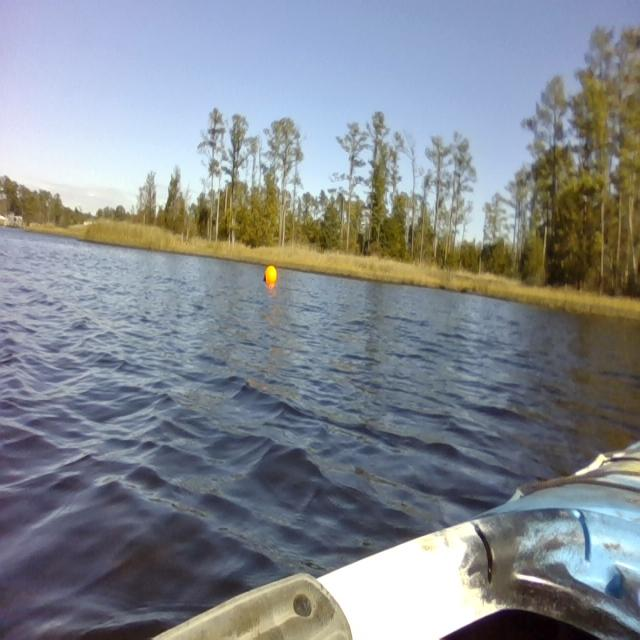Buoy: (262, 260, 280, 289)
